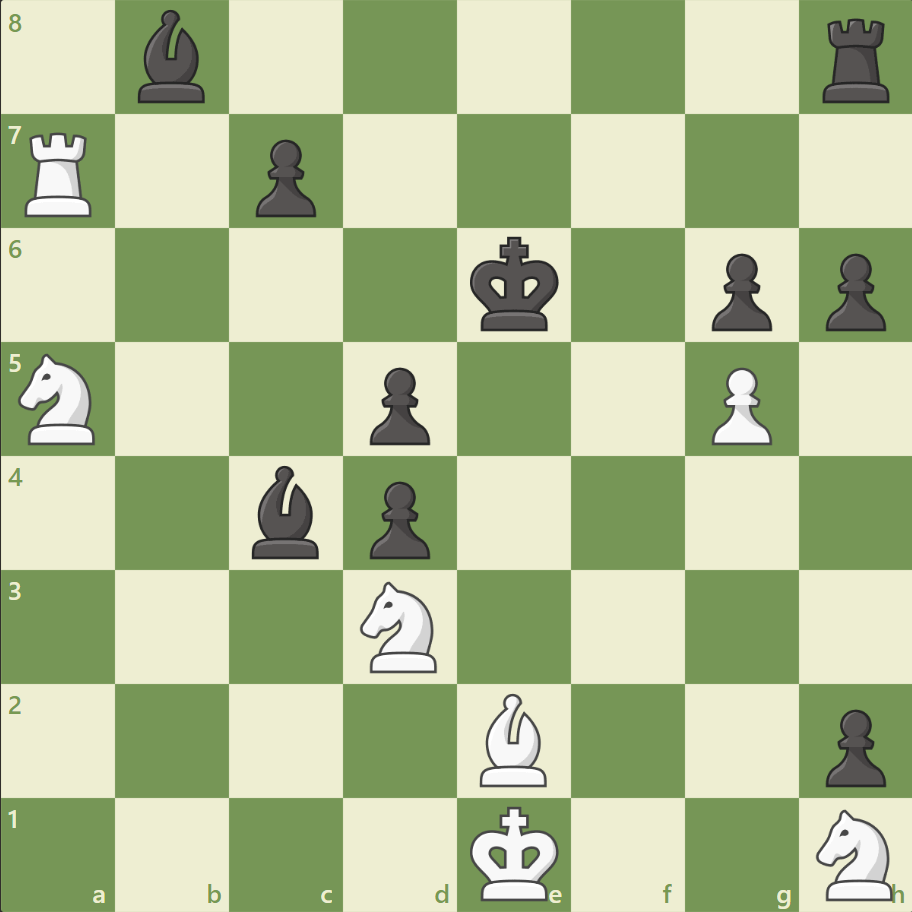B: (471, 687, 555, 790)
K: (465, 798, 565, 906)
N: (351, 575, 449, 677), (11, 348, 108, 450), (806, 802, 903, 904)
P: (701, 359, 776, 450)
R: (19, 125, 102, 222)
b: (131, 6, 215, 109), (244, 460, 328, 563)
k: (465, 231, 565, 339)
p: (247, 132, 322, 223), (701, 246, 776, 337), (815, 246, 889, 337), (361, 359, 435, 450), (361, 473, 435, 564), (815, 700, 889, 791)
r: (814, 12, 897, 109)
